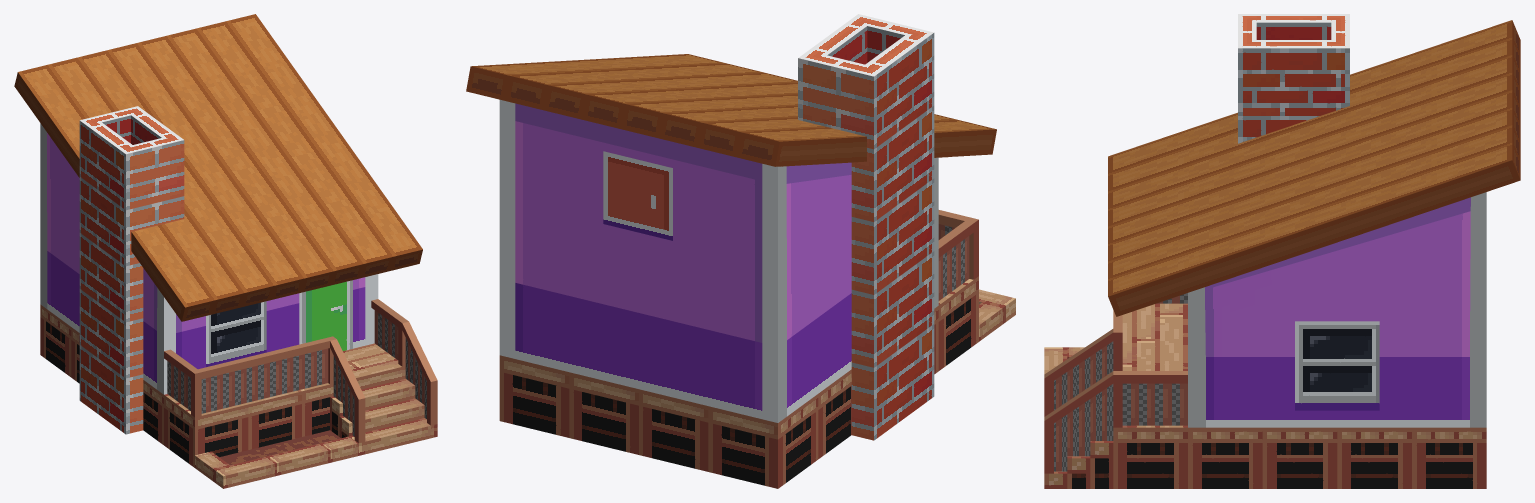
Rendered from house2.glb.
3 renders of one model, left to right at view 1: azimuth 30°, elevation 25°; view 2: azimuth 150°, elevation 25°; view 3: azimuth 270°, elevation 25°, orthographic. The views are drawn at different scales.
Parts seen in each view (by area): view 1: house, support, chimney, dirt; view 2: house, chimney, support; view 3: house, support, chimney.
Part boxes in pixels (box(x1,y1,x2,y2)): house: box(14, 14, 422, 394); support: box(40, 299, 437, 488); chimney: box(79, 106, 184, 434); dirt: box(219, 430, 340, 465); house: box(466, 54, 996, 422); chimney: box(798, 14, 934, 440); support: box(499, 210, 1015, 488); house: box(1108, 20, 1520, 427); support: box(1044, 293, 1486, 488); chimney: box(1238, 14, 1349, 143).
Size of the model in its own units: 4.55 by 5 by 6.38.
Materials: 1 (1 with a texture image).
